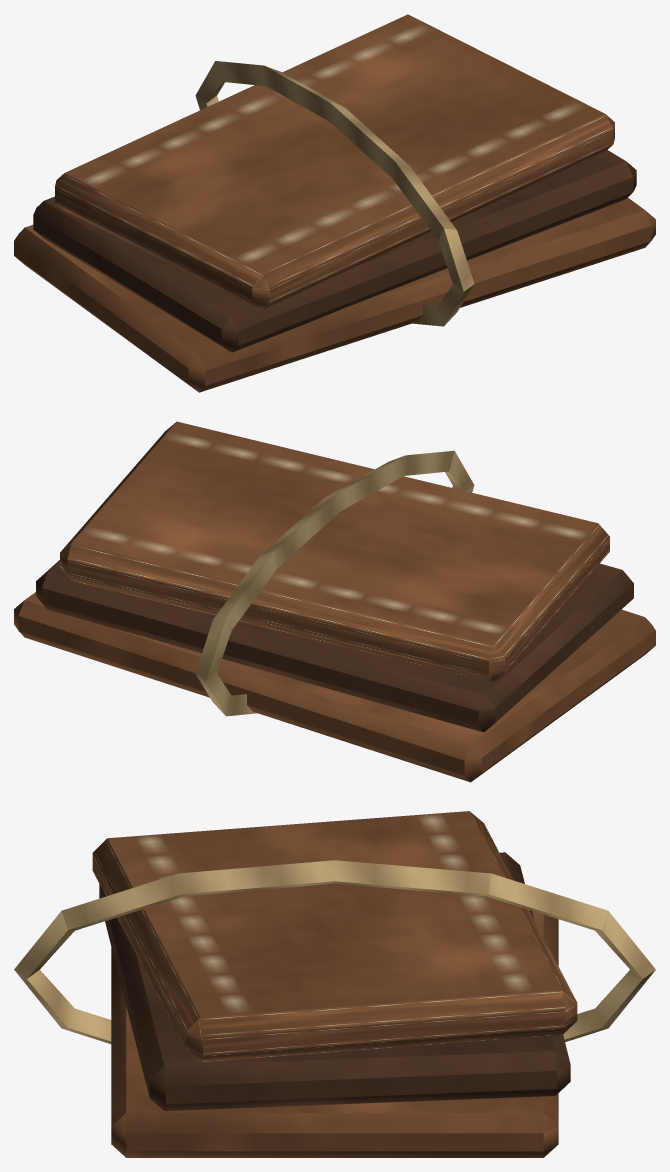
Rendered from SM_Pickup_Leather.fbx.
3 views of the same model, one above another, from view 1: azimuth 30°, elevation 25°; view 2: azimuth 150°, elevation 25°; view 3: azimuth 270°, elevation 25° (orthographic). The views are drawn at different scales.
Visible parts, largest first — view 1: SM_Pickup_Leather; view 2: SM_Pickup_Leather; view 3: SM_Pickup_Leather.
Boxes of the visible parts, x1=… form: SM_Pickup_Leather: x1=14, y1=14, x2=655, y2=392; SM_Pickup_Leather: x1=14, y1=421, x2=655, y2=782; SM_Pickup_Leather: x1=14, y1=811, x2=655, y2=1157.
Size of the model in its own units: 1.3 by 0.486 by 1.29.
Materials: 1 (1 with a texture image).
